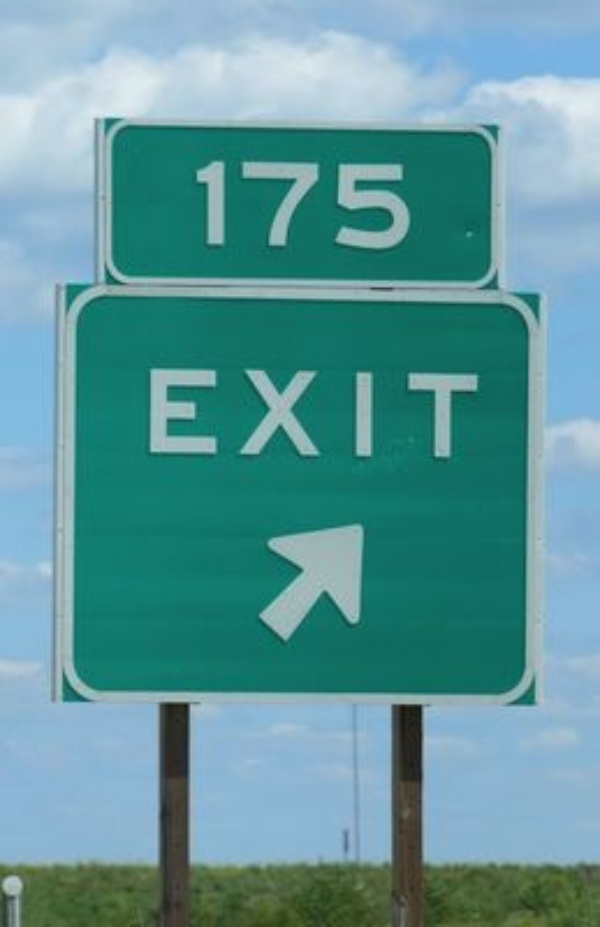text: (161, 364, 176, 464), (177, 364, 192, 464), (193, 364, 208, 464), (209, 364, 224, 464), (225, 364, 240, 464), (241, 364, 256, 464), (257, 364, 272, 464), (273, 364, 288, 464), (289, 364, 304, 464), (305, 364, 320, 464), (321, 364, 336, 464), (337, 364, 352, 464), (353, 364, 368, 464), (369, 364, 384, 464), (385, 364, 400, 464), (401, 364, 416, 464), (417, 364, 432, 464), (433, 364, 448, 464), (449, 364, 464, 464), (465, 364, 480, 464), (209, 153, 224, 251), (225, 153, 240, 251), (241, 153, 256, 251), (257, 153, 272, 251), (273, 153, 288, 251), (289, 153, 304, 251), (305, 153, 320, 251), (321, 153, 336, 251), (337, 153, 352, 251), (353, 153, 368, 251), (369, 153, 384, 251), (385, 153, 400, 251), (195, 153, 208, 251), (149, 364, 160, 464), (401, 153, 411, 251)
